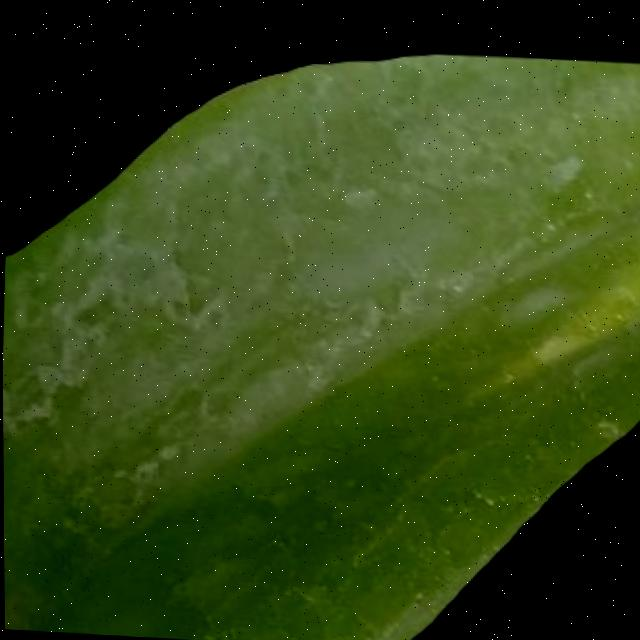spots: (2, 7, 640, 640)
